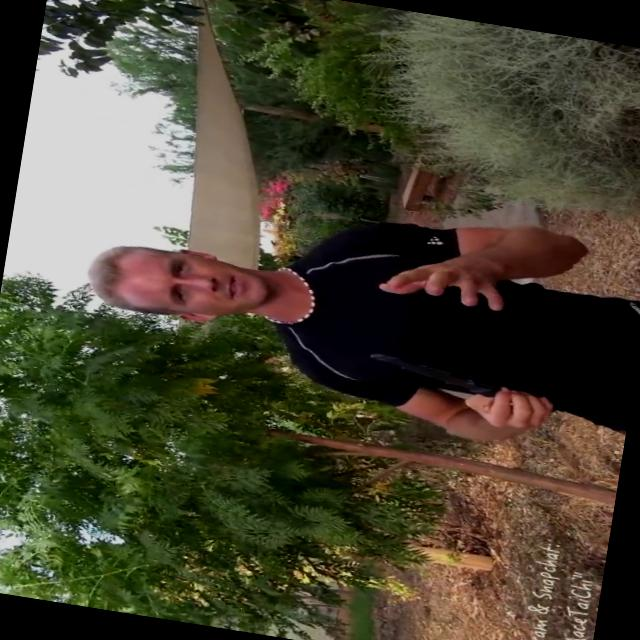knife: (358, 338, 516, 402)
